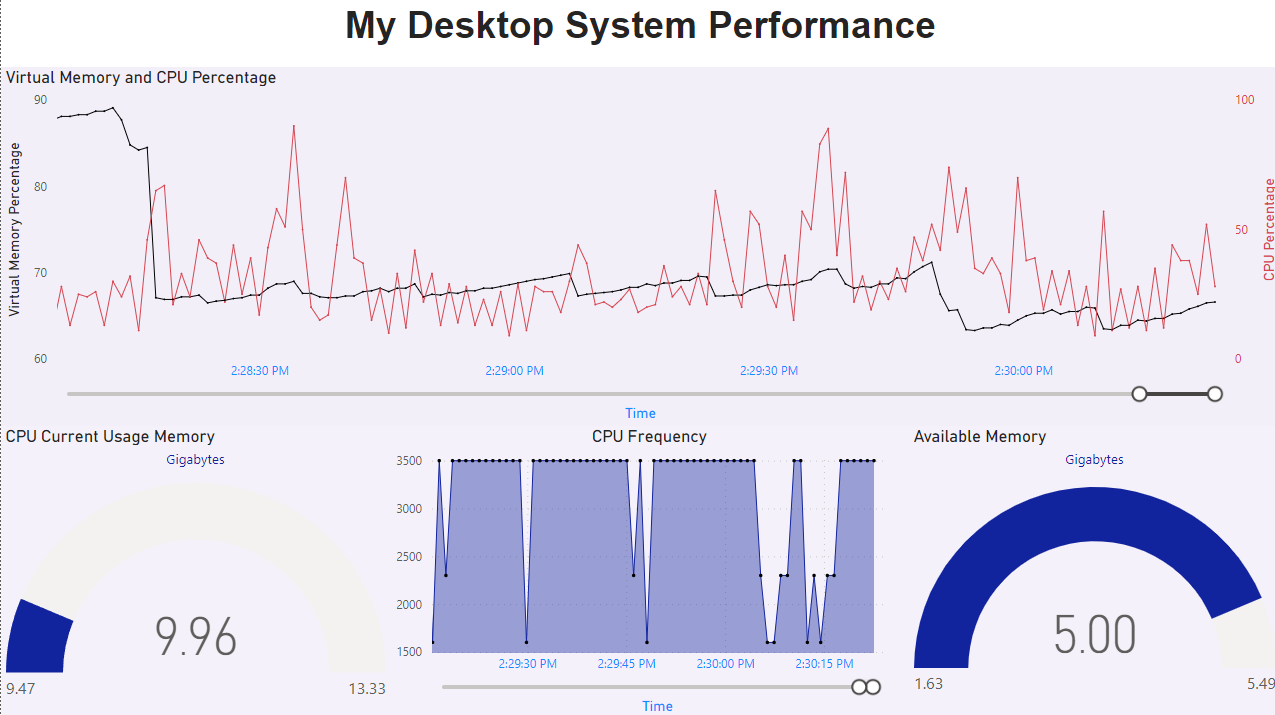

What the dashboard file says about the page in this screenshot:
{"tool":"powerbi","page":{"name":"Page 1","canvas":[1280,720],"ordinal":0},"visuals":[{"type":"gauge","title":"CPU Current Usage Memory ","fields":{"Y":["cpu_data_table.cpu_usage_current"],"MinValue":["Min(cpu_data_table.used_memory)"],"MaxValue":["Max(cpu_data_table.used_memory)1"]},"box":[0,427.3,390.2,292.9],"z":0},{"type":"gauge","title":"Available Memory","fields":{"Y":["cpu_data_table.available_mem_current"],"MinValue":["Min(cpu_data_table.available_memory)"],"MaxValue":["Max(cpu_data_table.available_memory)"]},"box":[908.3,427.3,371.7,292.9],"z":1000},{"type":"lineChart","title":"Virtual Memory and CPU Percentage","fields":{"Category":["cpu_data_table.Time"],"Y":["Sum(cpu_data_table.virtualMem_percent)"],"Y2":["Sum(cpu_data_table.cpu_percent)"]},"box":[0,67.7,1280,359.6],"z":2000},{"type":"areaChart","title":"CPU Frequency","fields":{"Y":["Sum(cpu_data_table.cpu_fre)"],"Category":["cpu_data_table.Time"]},"box":[390.2,427.3,518.1,292.9],"z":2001},{"type":"textbox","box":[0,0,1279.7,67.4],"z":2002}]}

Visuals, with their boxes in screenshot pixels (x1, y1, x2, y2), scaled from the page's 1280x720 canvas onto the 1275x715 screenshot:
"CPU Current Usage Memory " gauge: rect(0, 424, 389, 714)
"Available Memory" gauge: rect(905, 424, 1274, 714)
"Virtual Memory and CPU Percentage" lineChart: rect(0, 67, 1274, 424)
"CPU Frequency" areaChart: rect(389, 424, 905, 714)
textbox: rect(0, 0, 1274, 67)
